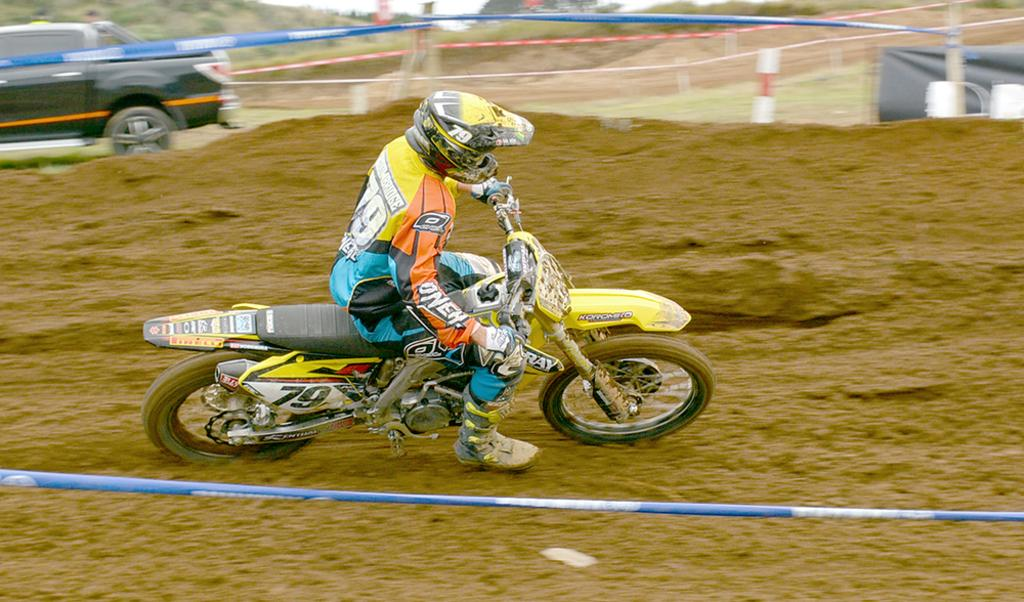helmet: (413, 90, 535, 185)
